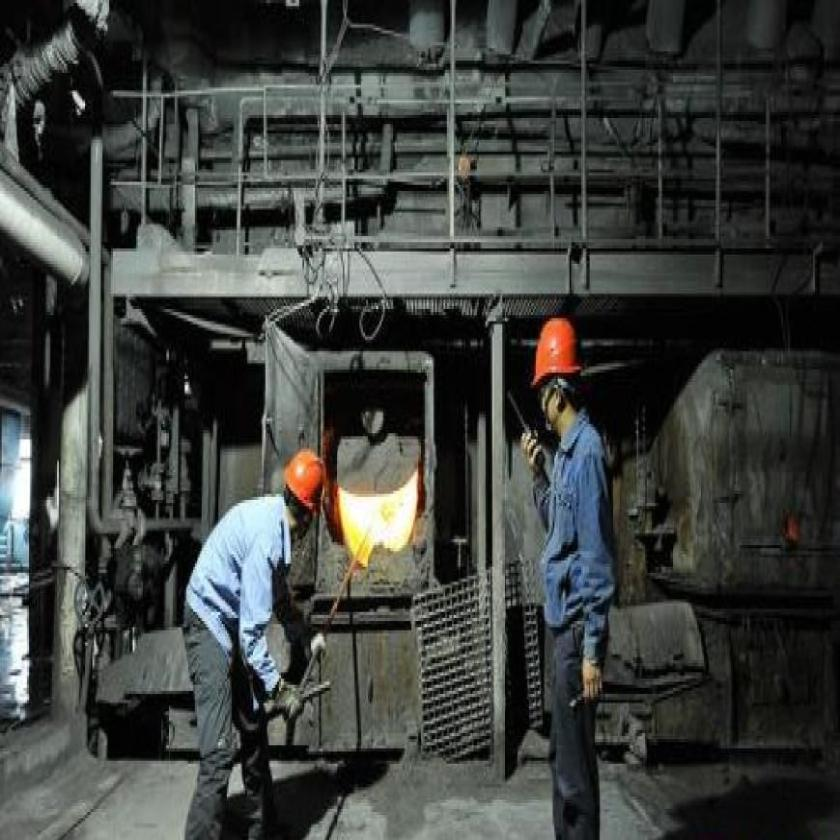Con_casco: (533, 314, 584, 443), (278, 446, 329, 544)
